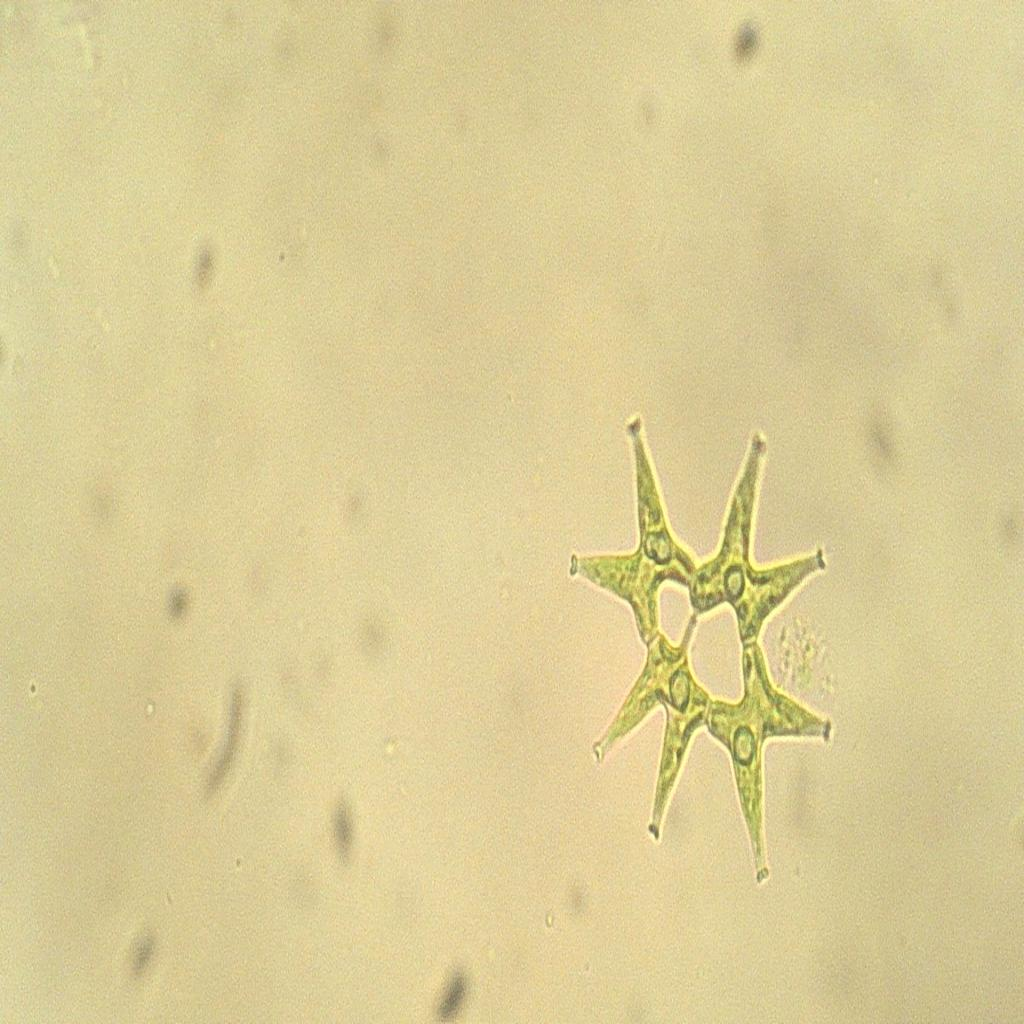Pediastrum_75FO: (563, 396, 851, 897)
